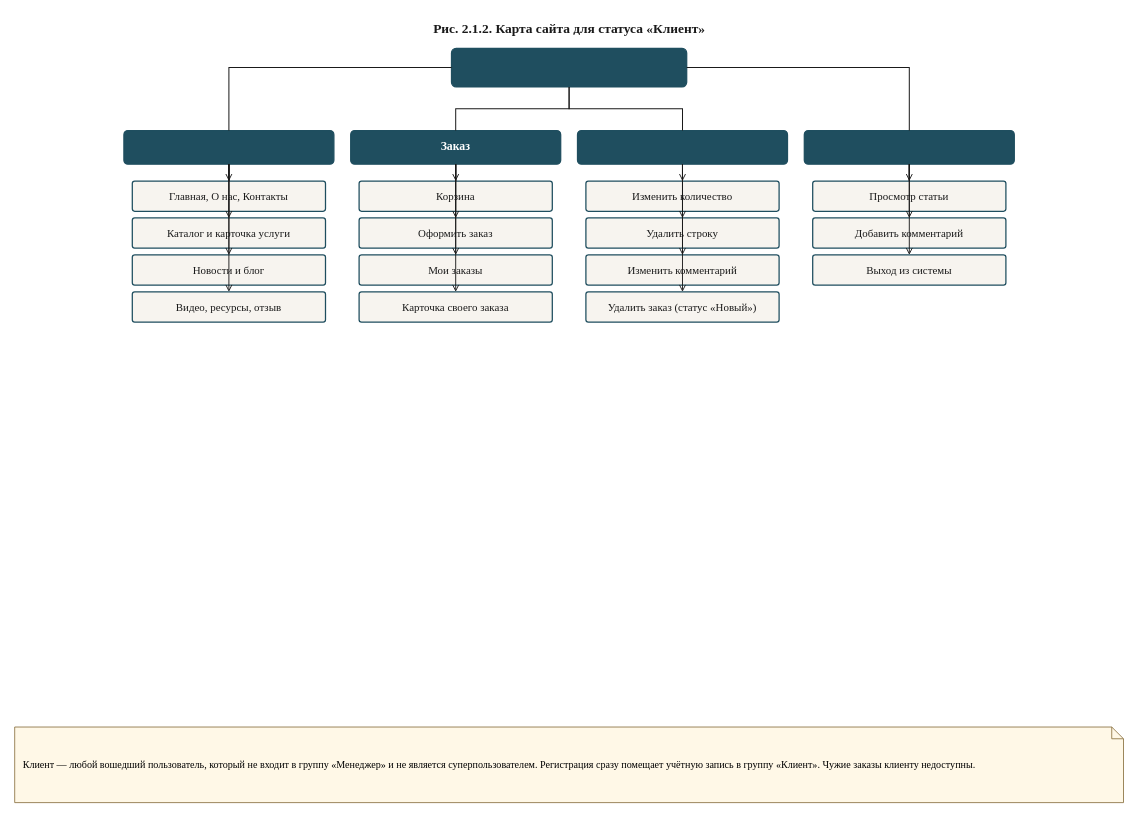
This 1138x817 diagram has some shape labels left out. Here are the shapes that lost their labels. From the top down, the centre of each, then its label:
At [568,67]: "Сайт «Пси-Эксперт»".
At [228,147]: "Как у гостя".
At [682,147]: "Правка заказа".
At [909,147]: "Блог".
